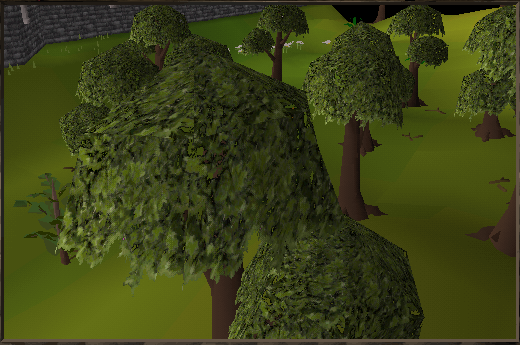Tree: (321, 28, 404, 222), (460, 11, 513, 147), (390, 0, 447, 108), (245, 2, 306, 86)
